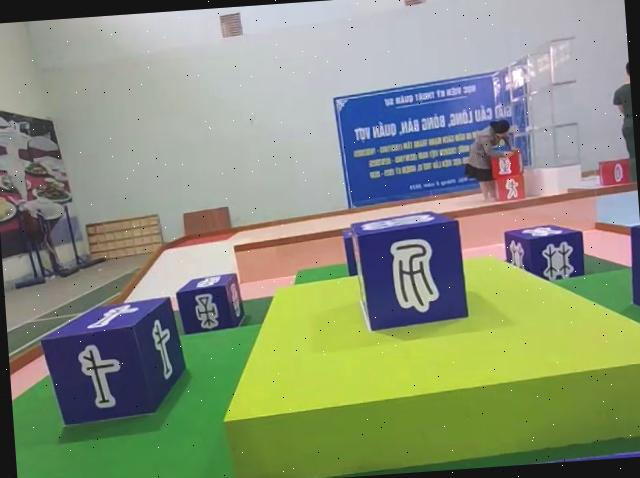R2 Fake Blue: (344, 209, 470, 335)
R2 Real Blue: (35, 297, 184, 429), (503, 222, 587, 284), (173, 270, 244, 334)
